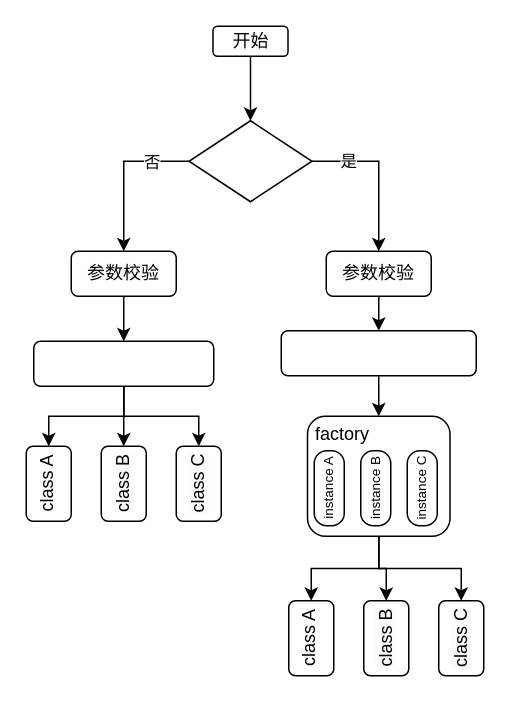
Some shapes in this 510 by 702 pixel diagram are drawn without their labels. Here are the shapes that lost their labels. From the top down, the centre of each, then its label:
(x=250, y=160): 是否设计 模式优化
(x=123, y=363): if...elseif...elseif...
(x=378, y=352): 策略模式O(1) 复杂度获取实例
